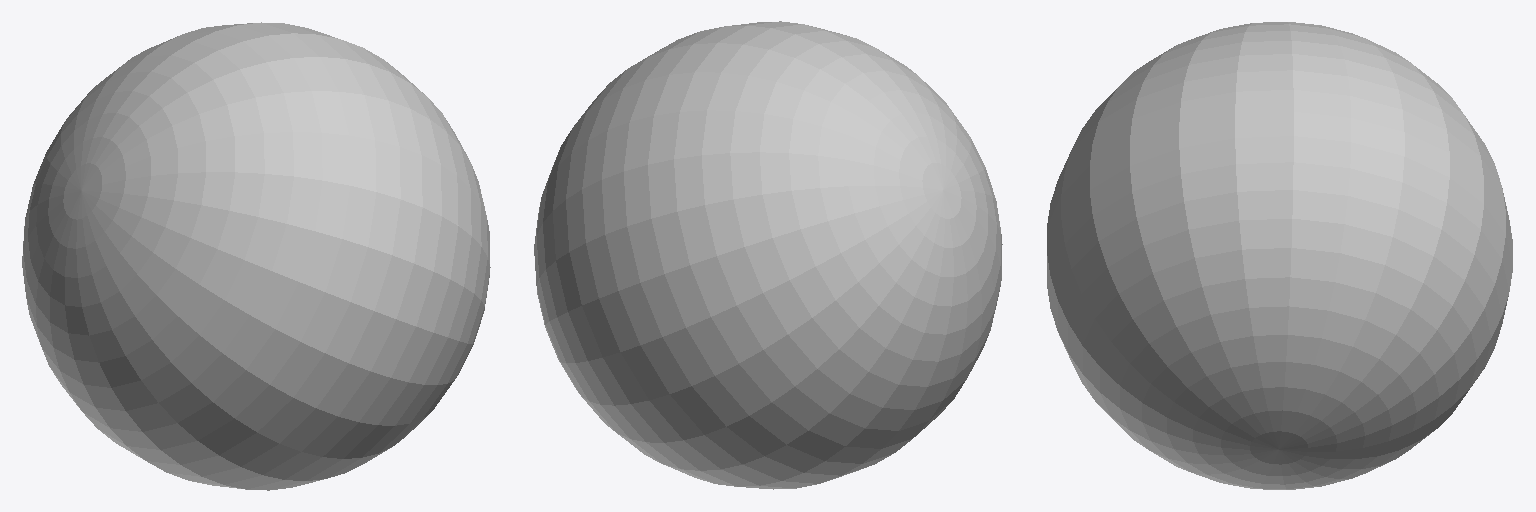
File: CubeWITHAnim0018.obj
3 renders of one model, left to right at view 1: azimuth 30°, elevation 25°; view 2: azimuth 150°, elevation 25°; view 3: azimuth 270°, elevation 25°, orthographic.
Parts seen in each view (by area): view 1: NEWJumpBall_Sphere; view 2: NEWJumpBall_Sphere; view 3: NEWJumpBall_Sphere.
Part boxes in pixels (left/top/right/bottom): NEWJumpBall_Sphere: left=22, top=22, right=490, bottom=490; NEWJumpBall_Sphere: left=534, top=21, right=1002, bottom=489; NEWJumpBall_Sphere: left=1047, top=22, right=1512, bottom=489.
Size of the model in its own units: 2 by 2 by 1.99.